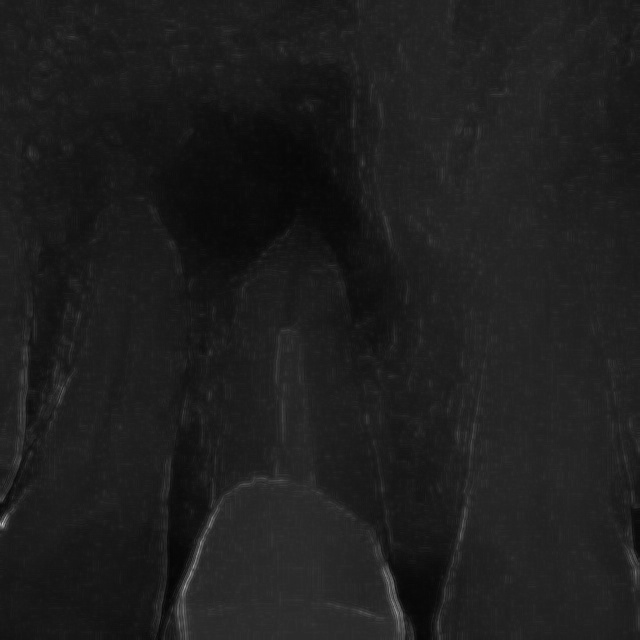Class 1- complete endodontic treatment: (110, 84, 475, 640)
